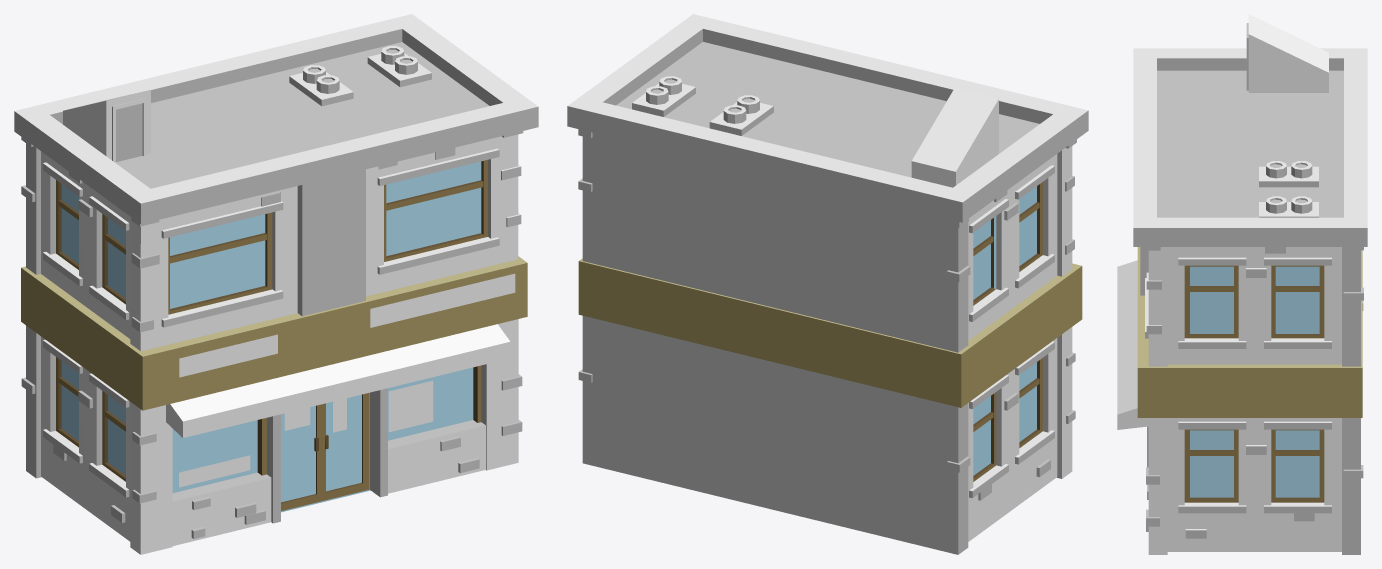
Rendered from house_small_2_002.fbx.
3 renders of one model, left to right at view 1: azimuth 30°, elevation 25°; view 2: azimuth 150°, elevation 25°; view 3: azimuth 270°, elevation 25°, orthographic. The views are drawn at different scales.
Parts seen in each view (by area): view 1: house_small_2_002; view 2: house_small_2_002; view 3: house_small_2_002.
Part boxes in pixels (x1,y1,x2,y2): house_small_2_002: (14,14,538,554); house_small_2_002: (567,14,1088,554); house_small_2_002: (1117,14,1367,554).
Bounding box in the file's own units: 708 × 699 × 417.
